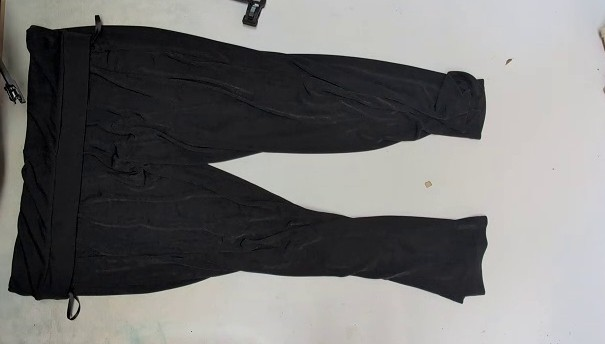TROUSER: (1, 3, 579, 344)
